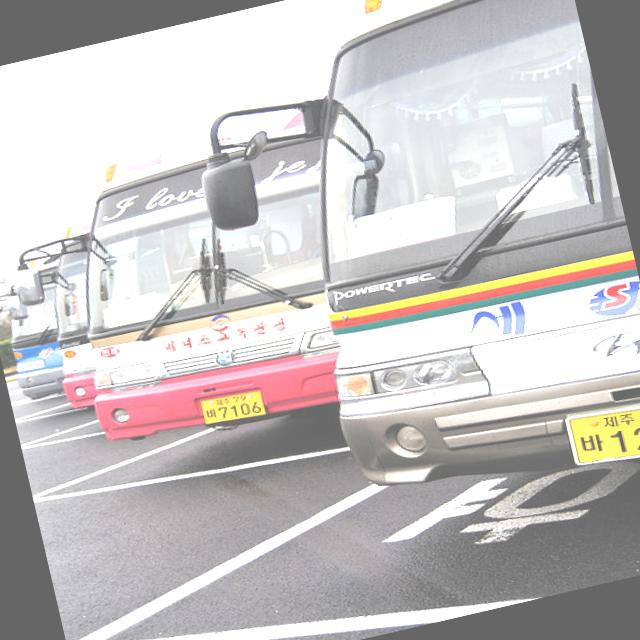Vehicle: (167, 0, 640, 539), (35, 106, 381, 462), (32, 235, 128, 410), (0, 238, 95, 395)
